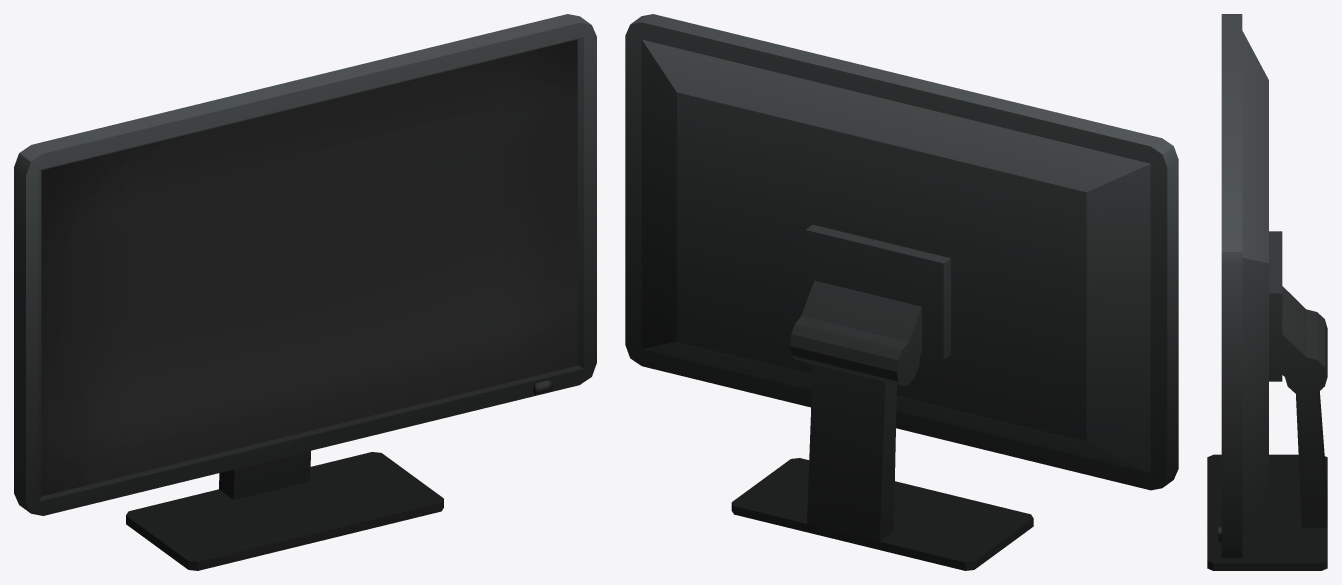
The model's file is ComputerMonitor_Off.fbx.
3 views of the same model, side by side, from view 1: azimuth 30°, elevation 25°; view 2: azimuth 150°, elevation 25°; view 3: azimuth 270°, elevation 25° (orthographic). The views are drawn at different scales.
Visible parts, largest first — view 1: ComputerMonitor_Off; view 2: ComputerMonitor_Off; view 3: ComputerMonitor_Off.
Part boxes in pixels (box(x1,y1,x2,y2)): ComputerMonitor_Off: box(14, 14, 596, 570); ComputerMonitor_Off: box(625, 14, 1178, 570); ComputerMonitor_Off: box(1207, 14, 1327, 570).
Bounding box in the file's own units: 57.91 × 43.32 × 12.17.
